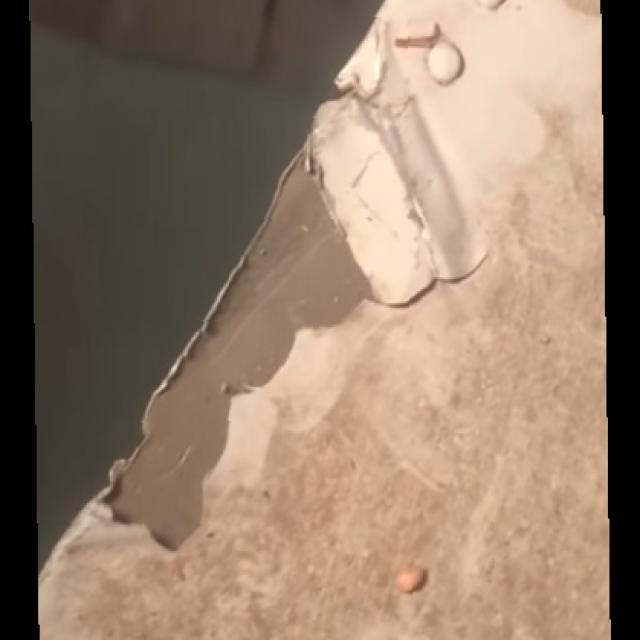crack: (374, 253, 488, 309)
dent: (91, 0, 600, 555)
